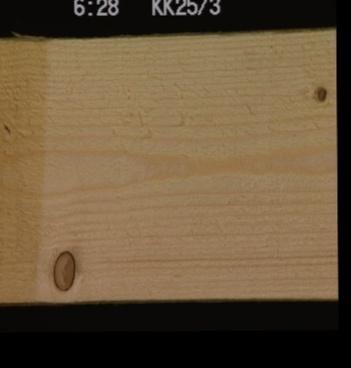dry_knot: (49, 248, 76, 291)
small_knot: (313, 83, 327, 102)
